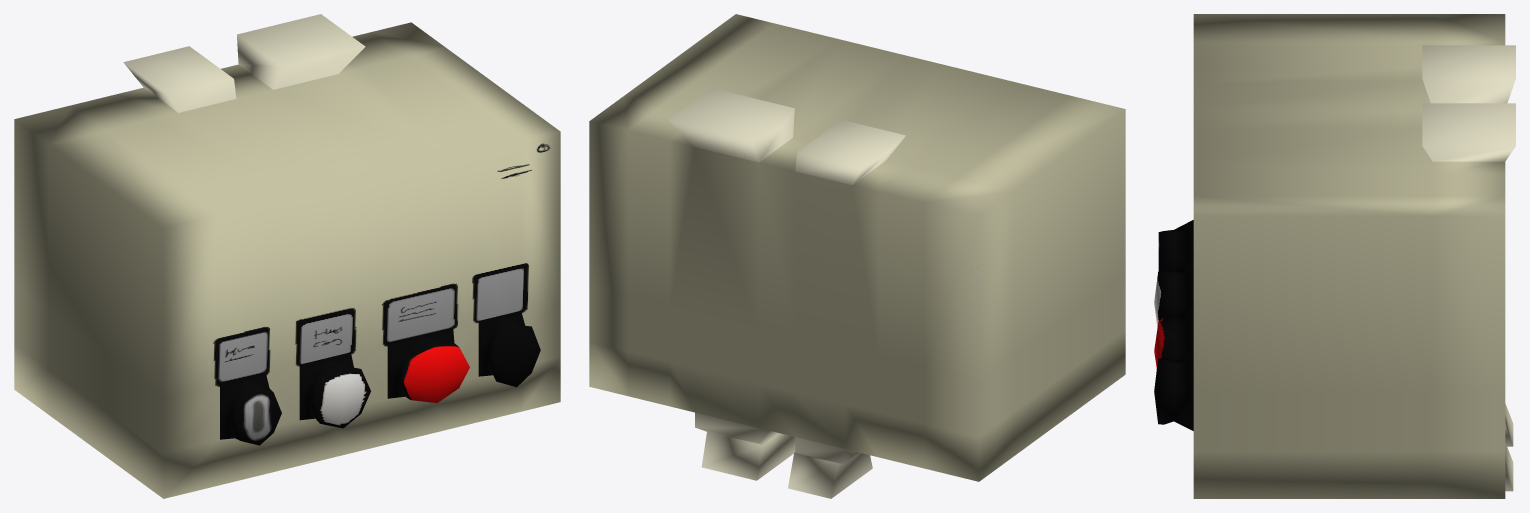
File: Fuse_Bunsenburner.fbx
3 views of the same model, side by side, from view 1: azimuth 30°, elevation 25°; view 2: azimuth 150°, elevation 25°; view 3: azimuth 270°, elevation 25° (orthographic). The views are drawn at different scales.
Visible parts, largest first — view 1: Fuse_for_Bunsenburner; view 2: Fuse_for_Bunsenburner; view 3: Fuse_for_Bunsenburner.
Boxes of the visible parts, bbox=[...] form: Fuse_for_Bunsenburner: bbox=[14, 14, 560, 498]; Fuse_for_Bunsenburner: bbox=[589, 14, 1125, 498]; Fuse_for_Bunsenburner: bbox=[1154, 14, 1515, 498].
Bounding box in the file's own units: 110 × 91.68 × 83.04.
Materials: 1 (1 with a texture image).
